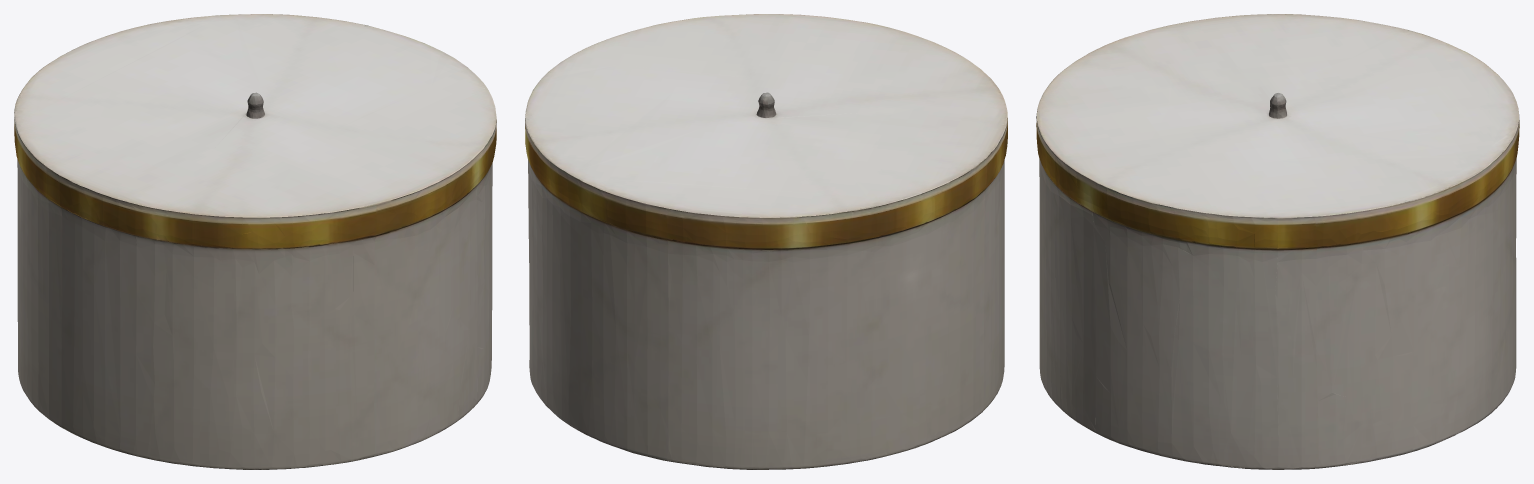
The picture shows the model from 3 angles, left to right: view 1: azimuth 30°, elevation 25°; view 2: azimuth 150°, elevation 25°; view 3: azimuth 270°, elevation 25°; orthographic projection.
Parts seen in each view (by area): view 1: geometry_0; view 2: geometry_0; view 3: geometry_0.
Part boxes in pixels (<box>): geometry_0: <box>14,14,496,469</box>; geometry_0: <box>525,14,1007,469</box>; geometry_0: <box>1036,14,1519,469</box>.
Size of the model in its own units: 0.999 by 0.6305 by 0.9992.
Materials: 1 (1 with a texture image).
